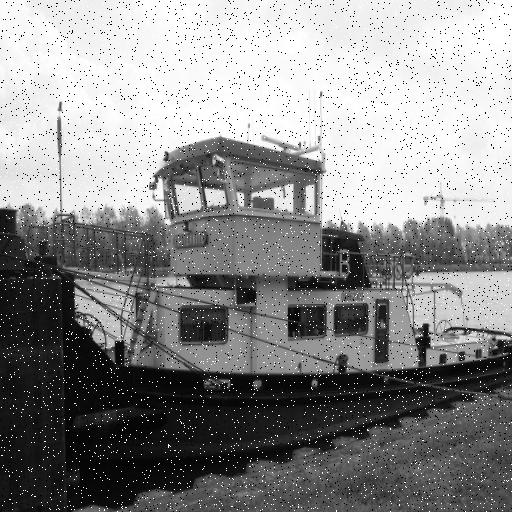tugboat: (1, 130, 512, 450)
